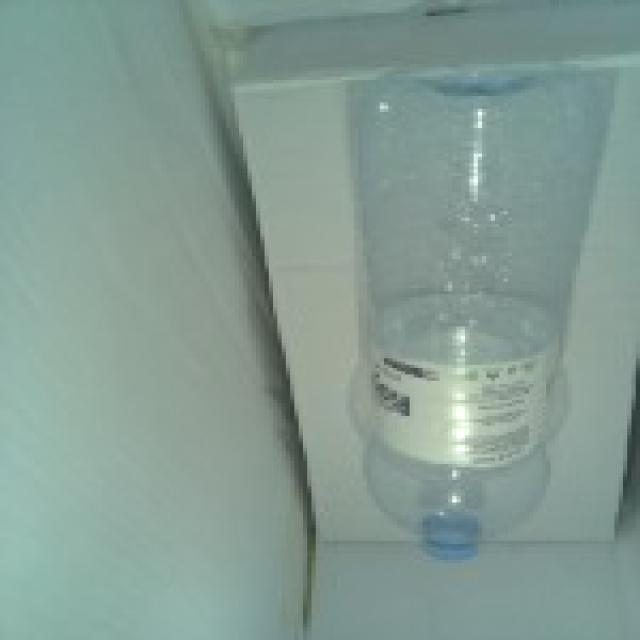bottle: (302, 46, 612, 578)
